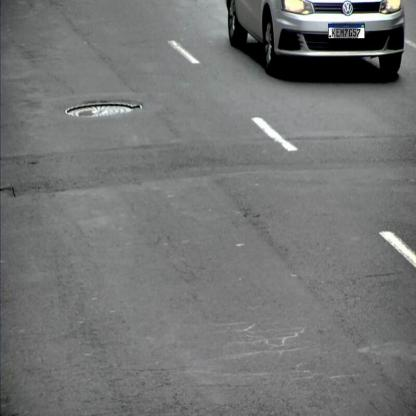PlacaM: (328, 23, 365, 39)
